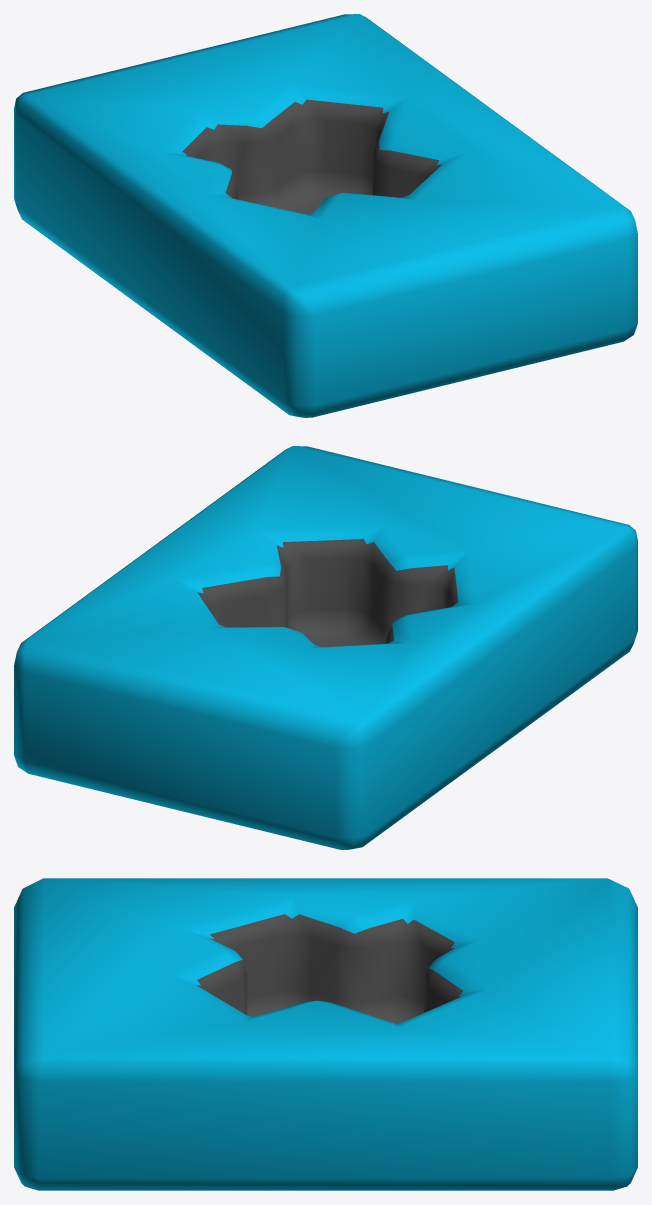
File: join.glb
The picture shows the model from 3 angles, top to bottom: view 1: azimuth 30°, elevation 25°; view 2: azimuth 150°, elevation 25°; view 3: azimuth 270°, elevation 25°; orthographic projection. The views are drawn at different scales.
Parts seen in each view (by area): view 1: Cube; view 2: Cube; view 3: Cube.
Boxes of the visible parts, x1,y1,x2,y2 form: Cube: (14, 14, 637, 417); Cube: (14, 446, 637, 849); Cube: (14, 878, 637, 1190).
Size of the model in its own units: 0.35 by 0.125 by 0.5.
